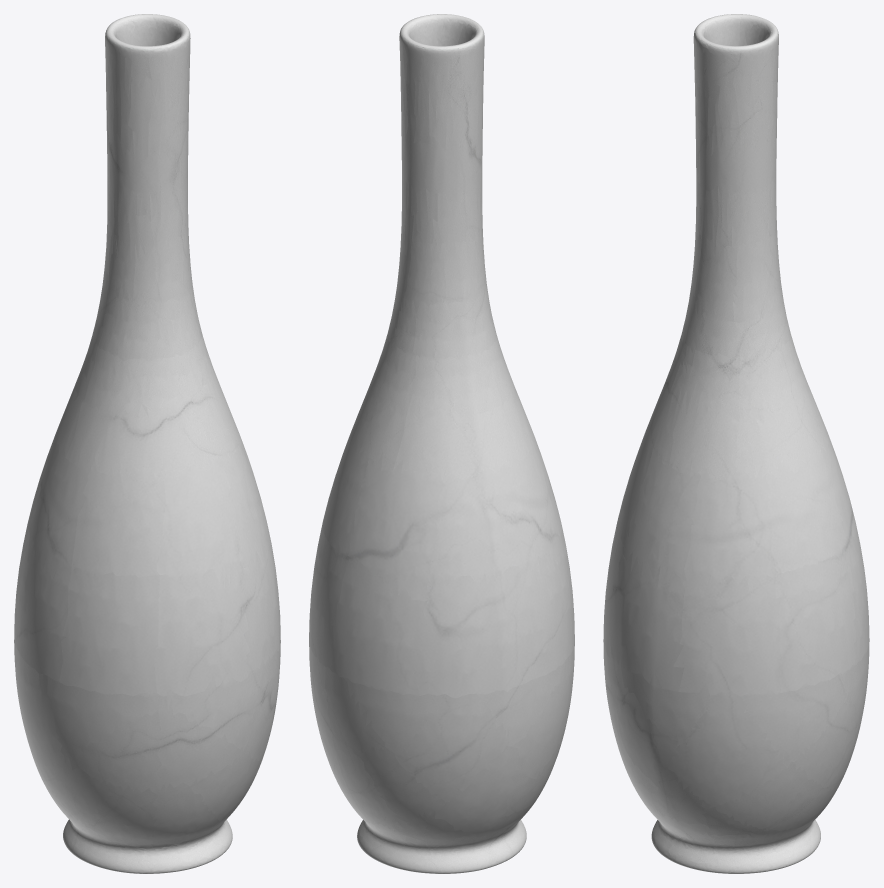
3 renders of one model, left to right at view 1: azimuth 30°, elevation 25°; view 2: azimuth 150°, elevation 25°; view 3: azimuth 270°, elevation 25°, orthographic.
Size of the model in its own units: 0.5664 by 1.9 by 0.5669.
Materials: 1 (1 with a texture image).
